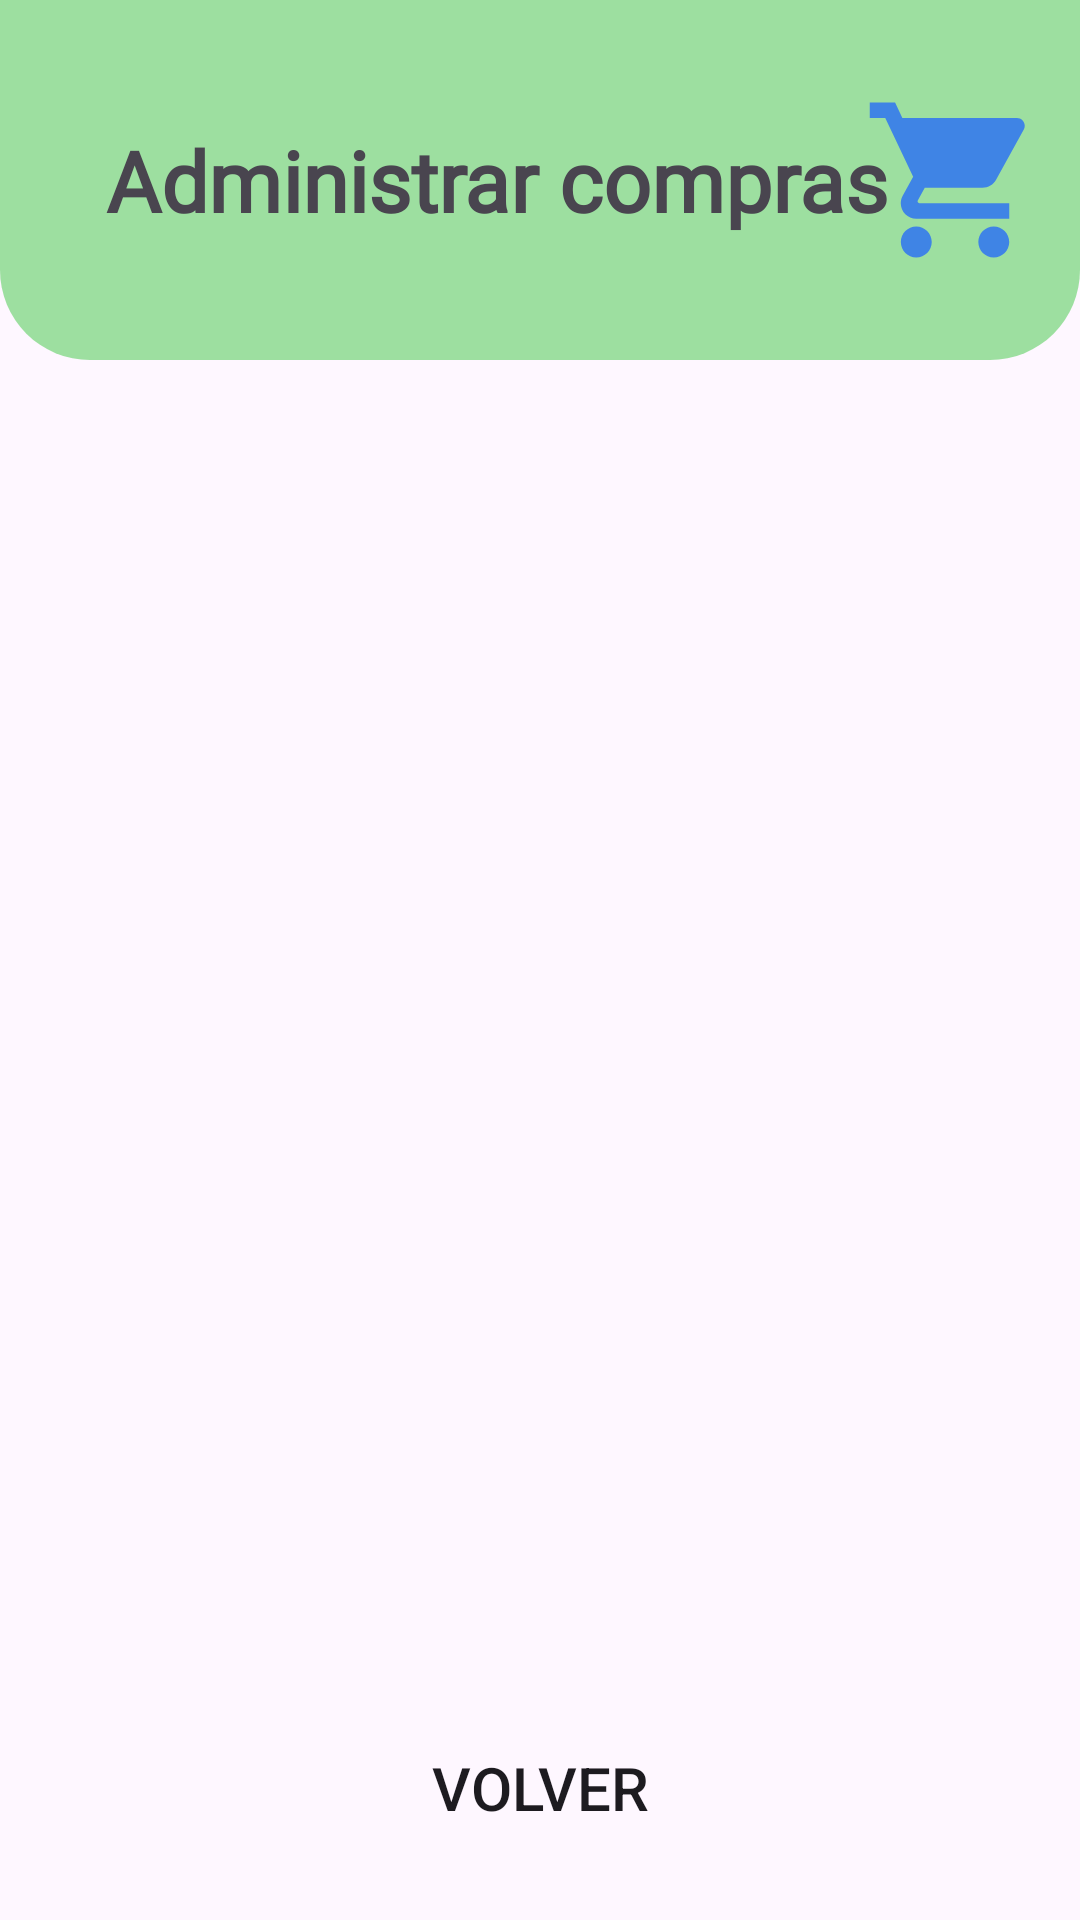

Icons on this 1080w x 1920h Android screen, each with the point to tap as [x,y]:
shopping cart: [947,180]
